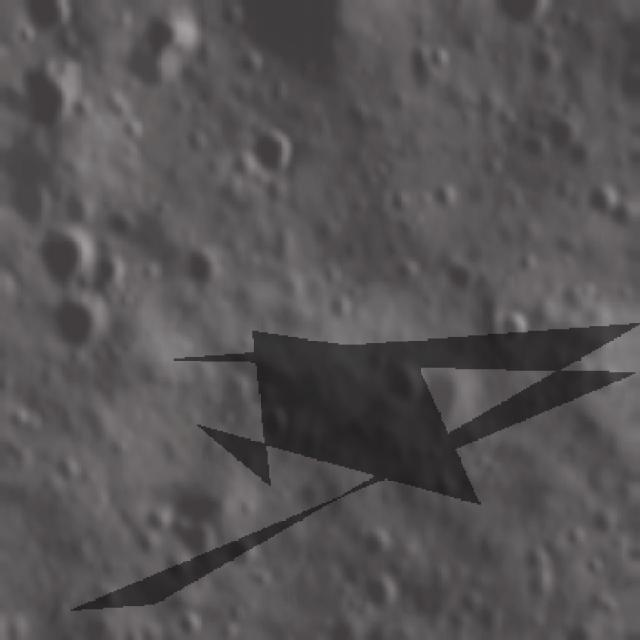crater: (122, 4, 216, 111), (13, 47, 93, 139), (17, 217, 100, 294), (31, 288, 114, 364), (154, 504, 232, 570), (420, 358, 480, 434), (246, 118, 309, 178), (181, 236, 239, 298), (3, 175, 59, 234), (350, 562, 408, 615), (382, 351, 430, 412), (571, 402, 629, 452), (576, 168, 624, 224), (542, 105, 592, 153), (440, 252, 486, 300), (484, 100, 528, 148), (354, 516, 395, 566), (500, 305, 546, 349), (254, 394, 294, 444), (224, 528, 267, 574), (226, 342, 272, 382), (92, 242, 131, 289), (523, 40, 565, 83), (46, 451, 89, 491), (63, 189, 103, 229), (104, 203, 144, 242), (560, 348, 598, 388), (426, 36, 463, 75), (110, 112, 153, 145), (588, 504, 626, 541), (322, 293, 360, 329), (432, 175, 468, 212), (174, 602, 208, 636), (590, 363, 621, 399), (559, 278, 590, 314), (382, 184, 416, 216), (388, 253, 423, 284), (224, 597, 256, 628), (516, 249, 547, 277), (580, 551, 609, 578)
